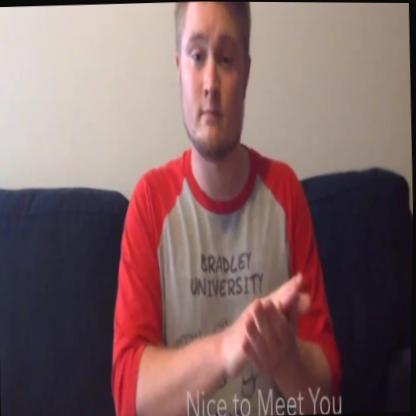NiceToMeetYou: (217, 239, 315, 390)
